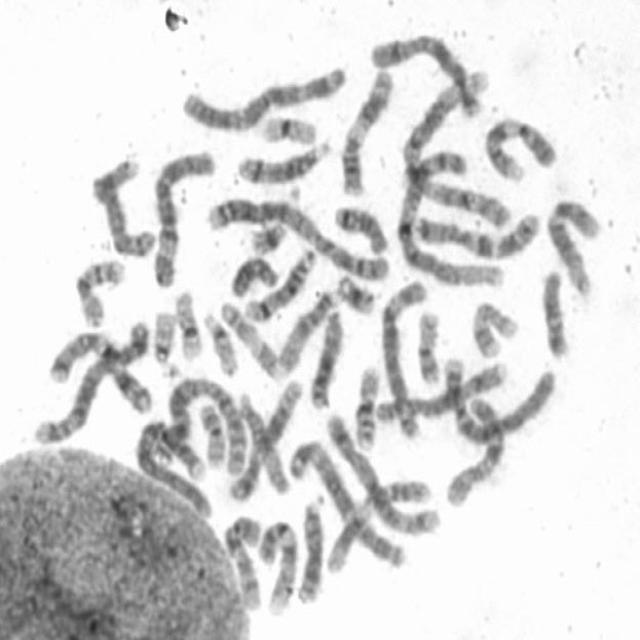A1: (396, 65, 514, 231), (390, 140, 508, 290)
A2: (200, 187, 390, 282), (153, 366, 249, 478)
A3: (283, 430, 409, 568), (175, 54, 350, 134)
B4: (436, 348, 558, 442), (128, 409, 215, 519)
B5: (318, 402, 443, 540), (29, 310, 154, 448)
C10: (438, 385, 508, 510), (217, 506, 266, 612)
C11: (320, 468, 436, 576), (334, 61, 395, 197)
C12: (222, 371, 305, 504), (540, 189, 603, 298)
C6: (145, 139, 219, 290), (374, 271, 430, 437)
C7: (42, 321, 154, 415), (404, 203, 543, 261)
C8: (368, 353, 512, 425), (85, 153, 158, 258)
C9: (477, 106, 561, 182), (252, 512, 301, 616)
D13: (303, 298, 347, 410), (290, 486, 328, 606)
D14: (238, 238, 320, 324), (231, 129, 335, 185)
D15: (228, 382, 294, 499), (271, 280, 343, 375)
E16: (69, 250, 129, 328), (348, 356, 383, 451)
E17: (214, 291, 284, 380), (465, 292, 522, 360)
E18: (328, 194, 391, 256), (535, 260, 573, 360)
F19: (168, 280, 206, 362), (254, 104, 319, 147)
F20: (410, 301, 445, 385), (193, 395, 228, 469)
G21: (330, 263, 378, 317), (243, 211, 290, 256)
G22: (196, 302, 242, 377), (147, 299, 181, 373)
X: (364, 24, 487, 119)
Y: (224, 245, 281, 298)
